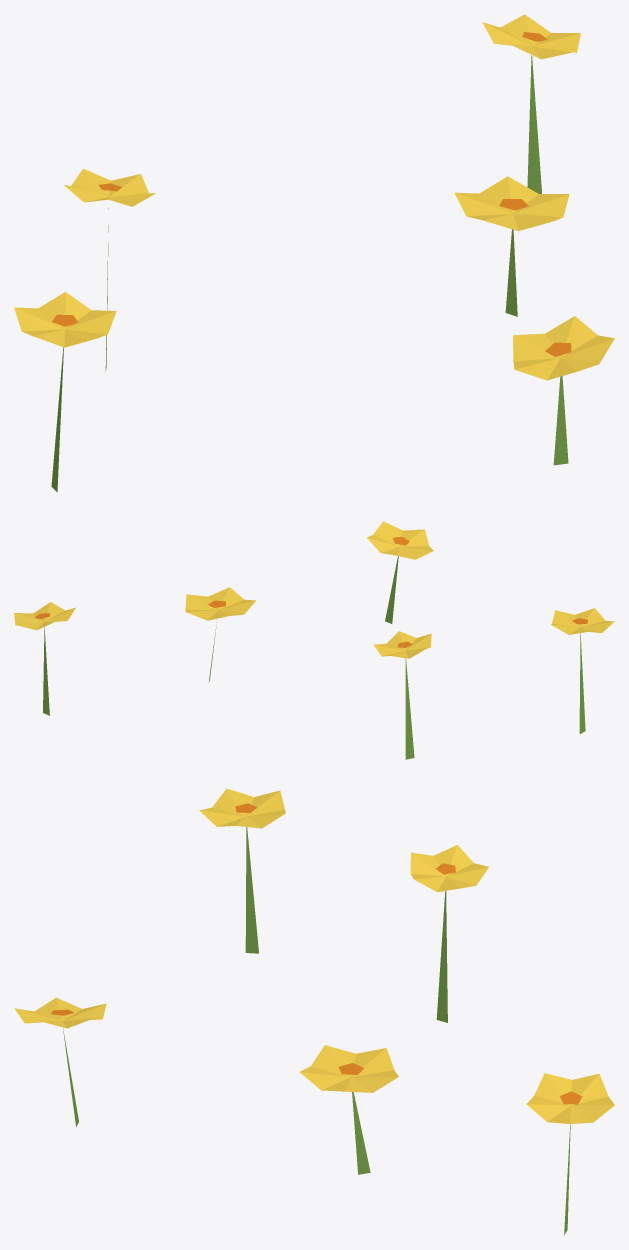
The model's file is buttercups.glb.
3 renders of one model, top to bottom at view 1: azimuth 30°, elevation 25°; view 2: azimuth 150°, elevation 25°; view 3: azimuth 270°, elevation 25°, orthographic. The views are drawn at different scales.
Visible parts, largest first — view 1: buttercups; view 2: buttercups; view 3: buttercups.
Boxes of the visible parts, left/top/right/bottom form: buttercups: left=14, top=14, right=614, bottom=491; buttercups: left=14, top=521, right=614, bottom=759; buttercups: left=14, top=788, right=614, bottom=1234.
Bounding box in the file's own units: 0.5525 × 0.1326 × 0.4452.
